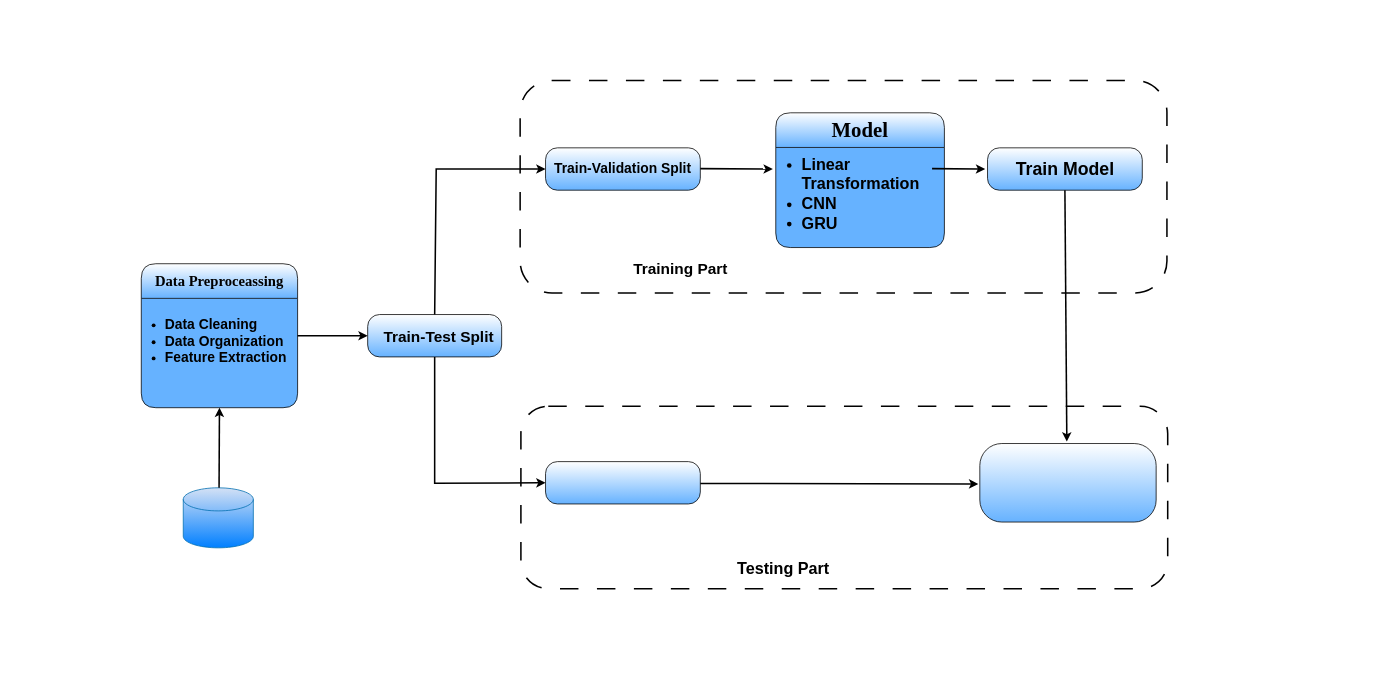
This 1379x675 diagram has some shape labels left out. Each missing label, with the centre of its shape:
"Dataset" goes at pixel 217 517.
"Model Evaluation & Performance Analysis" goes at pixel 1067 482.
"Test Data" goes at pixel 622 482.
